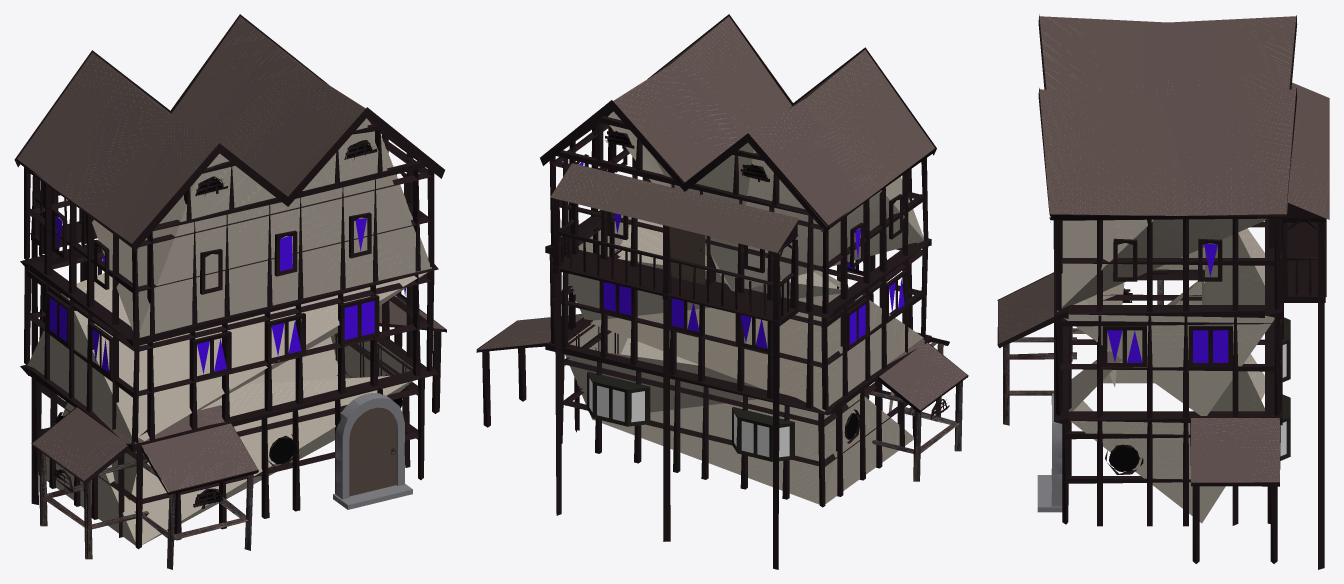
File: oga_house_5.glb
3 renders of one model, left to right at view 1: azimuth 30°, elevation 25°; view 2: azimuth 150°, elevation 25°; view 3: azimuth 270°, elevation 25°, orthographic. The views are drawn at different scales.
Visible parts, largest first — view 1: oga_house_5; view 2: oga_house_5; view 3: oga_house_5.
Part boxes in pixels (bbox=[...]): oga_house_5: bbox=[14, 14, 446, 569]; oga_house_5: bbox=[476, 14, 968, 569]; oga_house_5: bbox=[997, 14, 1329, 569].
Size of the model in its own units: 11.25 by 11.39 by 7.48.
Materials: 10 (9 with a texture image).
